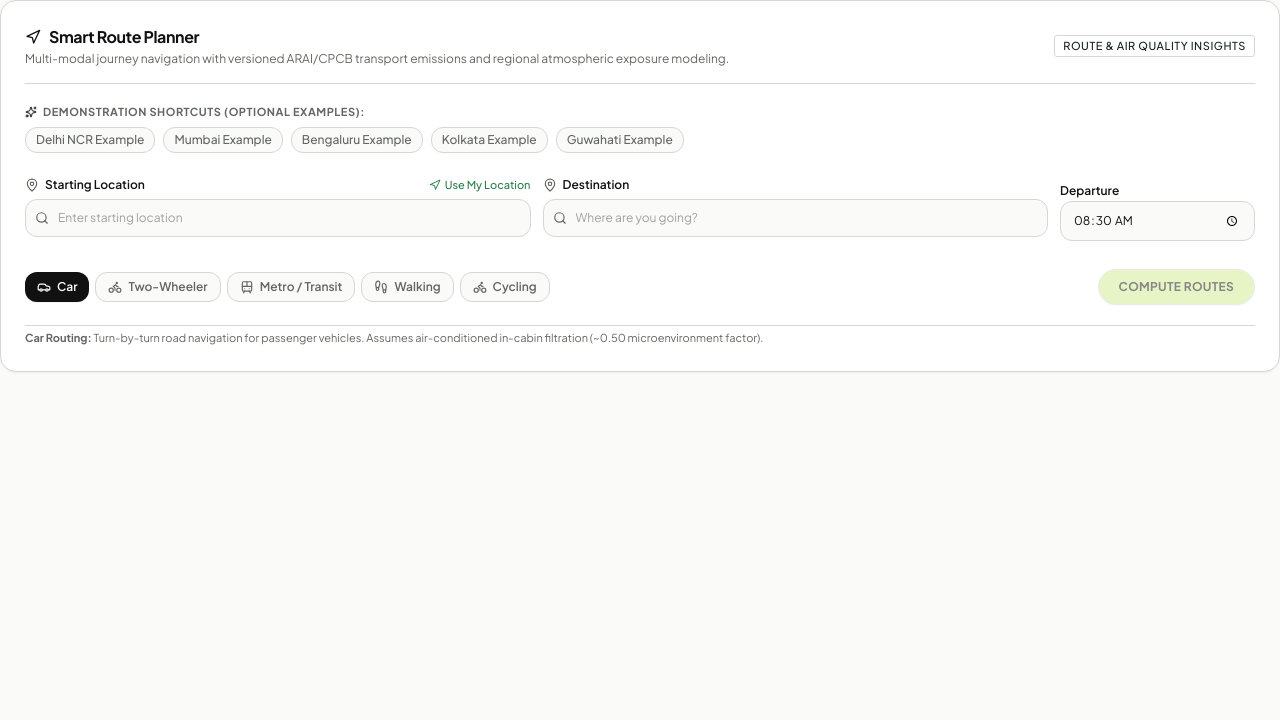
RouteComparisonPanel UI Component › displays unconfigured fallback state when server indicates OPENROUTESERVICE_API_KEY is missing
Click demonstration shortcut to set valid origin & destination and auto-compute
Click the button "Delhi NCR Example" at (90, 140), box left=25, top=126, right=155, bottom=152
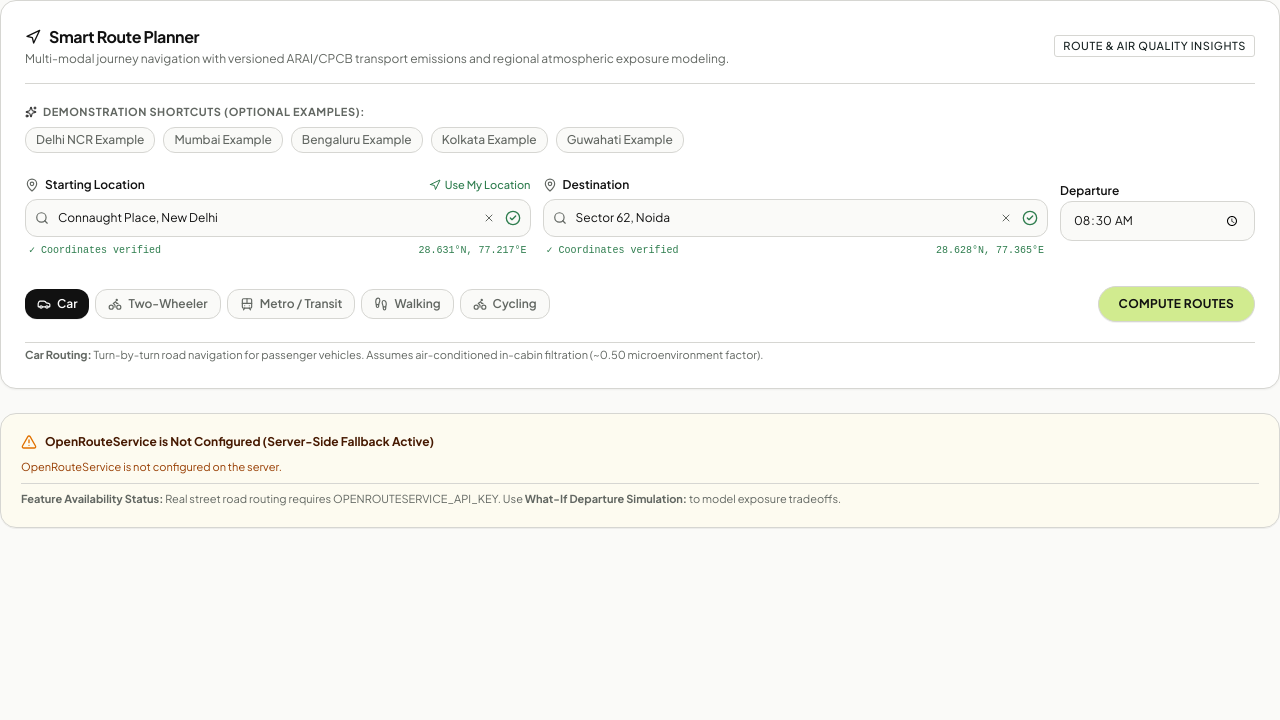
Result: the text "OpenRouteService is Not Configured (Server-Side Fallback Active)" is shown at left=45, top=434, right=434, bottom=450
Result: the text "Feature Availability Status:" is shown at left=21, top=492, right=163, bottom=505
Result: the text "What-If Departure Simulation:" is shown at left=525, top=492, right=687, bottom=505
